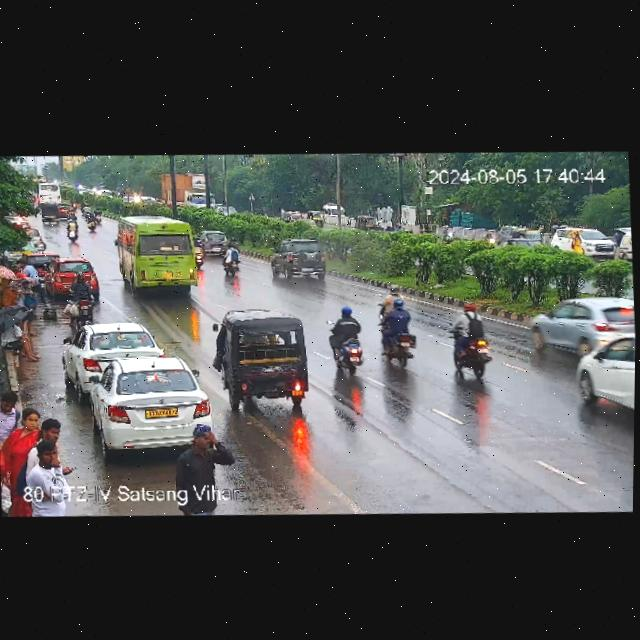bus: (114, 209, 207, 297), (38, 182, 61, 205)
car: (67, 350, 219, 461), (213, 305, 315, 408), (531, 291, 636, 351), (64, 319, 162, 382), (576, 330, 635, 433), (270, 237, 331, 285), (49, 257, 104, 299), (554, 224, 618, 260), (3, 210, 41, 235), (508, 224, 545, 245), (284, 210, 322, 226), (34, 247, 60, 270), (354, 215, 384, 234), (203, 230, 225, 255), (40, 201, 60, 227), (27, 226, 44, 251), (573, 232, 585, 254), (59, 203, 69, 219)
motorcycle: (175, 417, 229, 489), (448, 303, 496, 380), (373, 282, 415, 365), (67, 270, 99, 326), (220, 240, 241, 274), (193, 240, 206, 270), (66, 217, 79, 239), (441, 221, 454, 241), (95, 205, 103, 225), (88, 213, 96, 232), (83, 202, 91, 220), (70, 196, 79, 210), (485, 233, 492, 243)
person: (19, 438, 77, 499), (9, 400, 55, 469), (25, 410, 66, 471), (0, 310, 41, 366), (15, 277, 41, 326), (19, 259, 43, 281)
truck: (163, 167, 217, 209)
